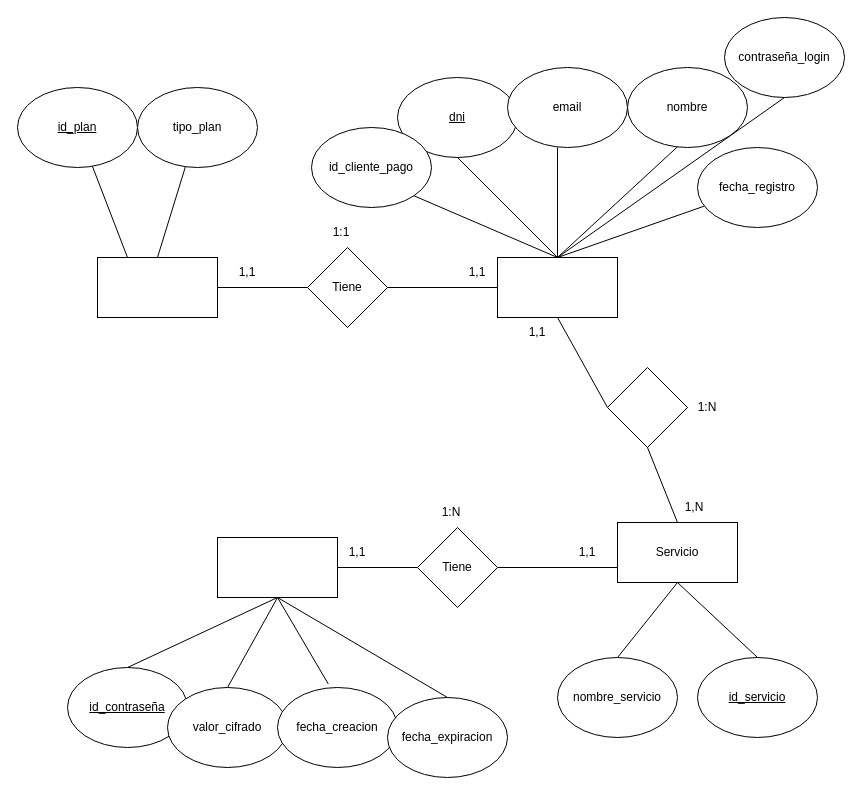
This 862x795 diagram has some shape labels left out. The box of each missing label's shape, as (x1, y1, x2, y2) in pixels:
Contraseñas: (216, 536, 338, 598)
Gestiona: (606, 366, 688, 448)
Plan: (96, 256, 218, 318)
Usuario: (496, 256, 618, 318)
